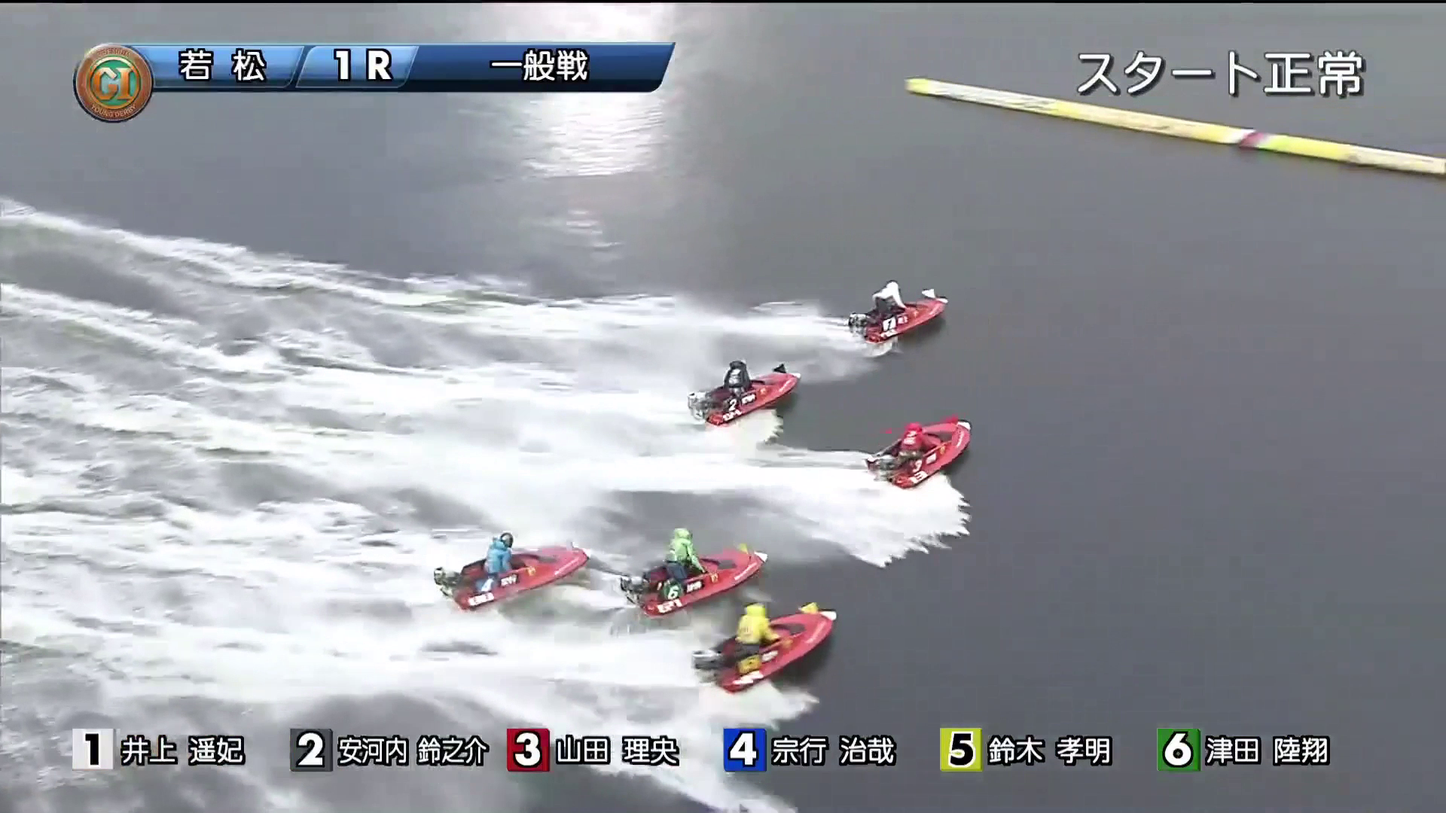１号艇: (859, 282, 997, 335)
２号艇: (680, 354, 809, 414)
３号艇: (870, 426, 1010, 473)
４号艇: (630, 532, 757, 597)
５号艇: (429, 543, 553, 598)
６号艇: (719, 611, 818, 668)
